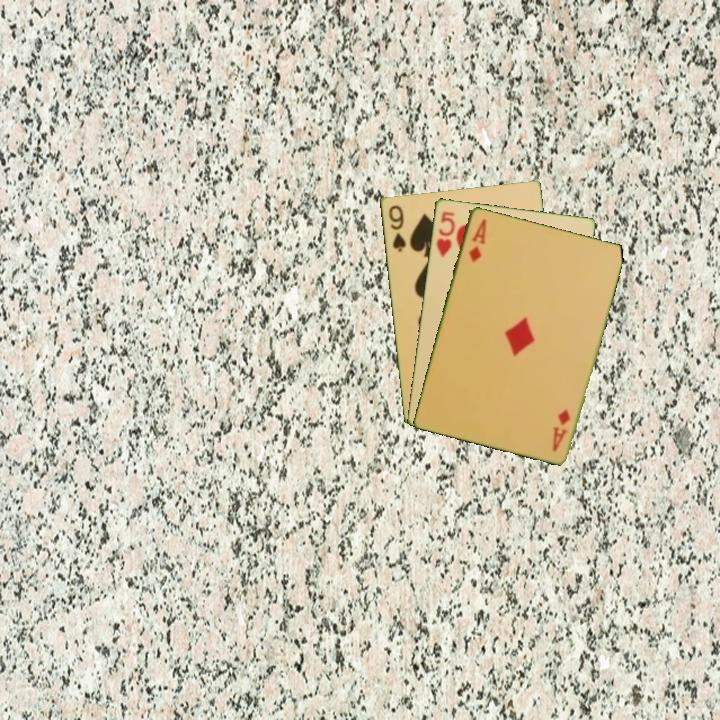5h: (432, 207, 458, 260)
9s: (385, 201, 408, 254)
Ad: (465, 215, 489, 265), (549, 406, 573, 454)
